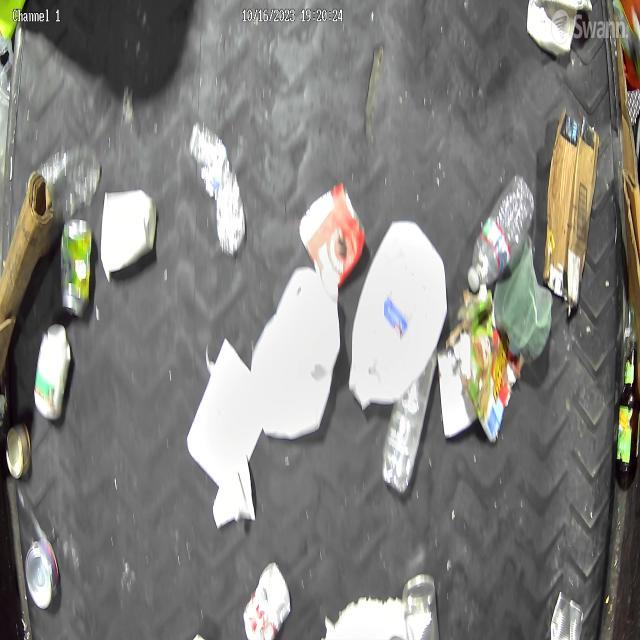can: (242, 557, 292, 640), (60, 216, 94, 322), (23, 537, 63, 612), (549, 587, 584, 640), (5, 420, 32, 482)
milk_jug: (347, 213, 449, 409), (250, 263, 340, 441)
plastic_bottle: (381, 343, 438, 498), (466, 172, 536, 294), (187, 120, 247, 258)
